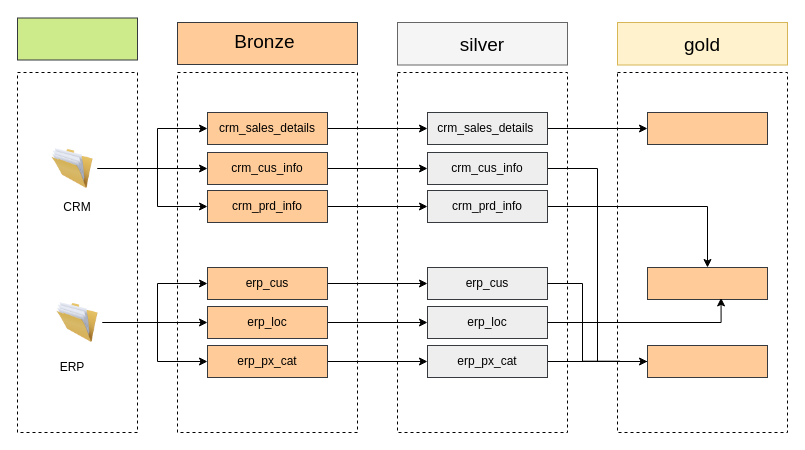
Some shapes in this 805 by 450 pixel diagram are drawn without their labels. Here are the shapes that lost their labels. From the top down, the centre of each, then its label:
pixel 77 38: Sources
pixel 707 128: fact_sales
pixel 707 283: dim_product
pixel 707 361: dim_custumers
